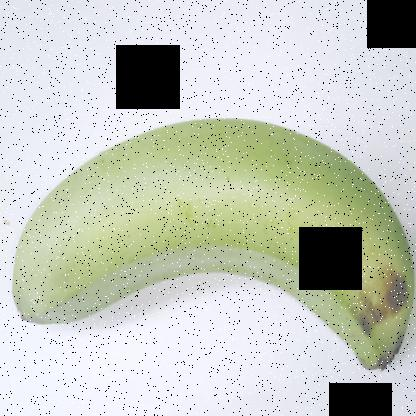freshunripe: (4, 113, 415, 393)
